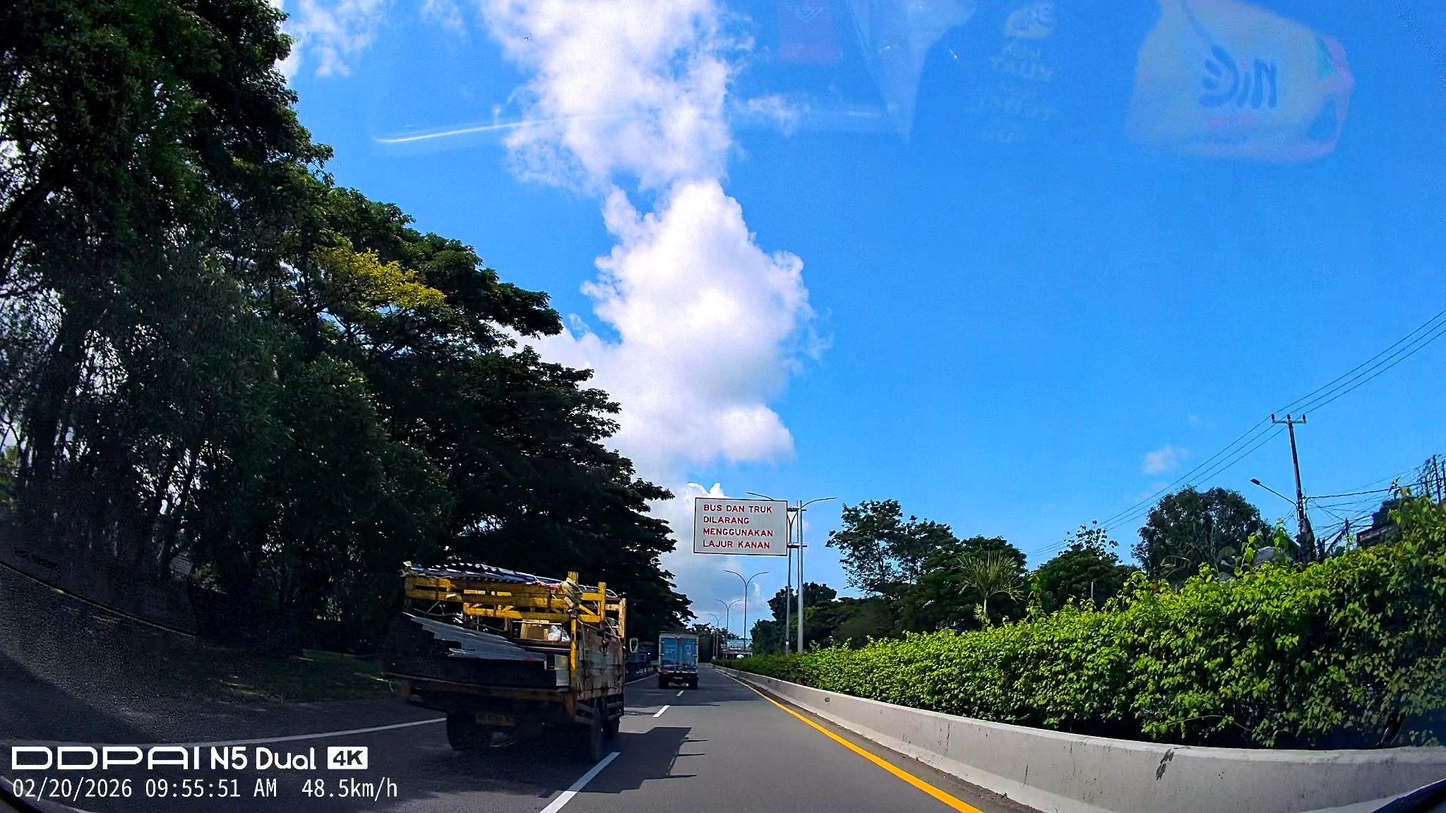rambu_teks: (692, 496, 789, 557)
